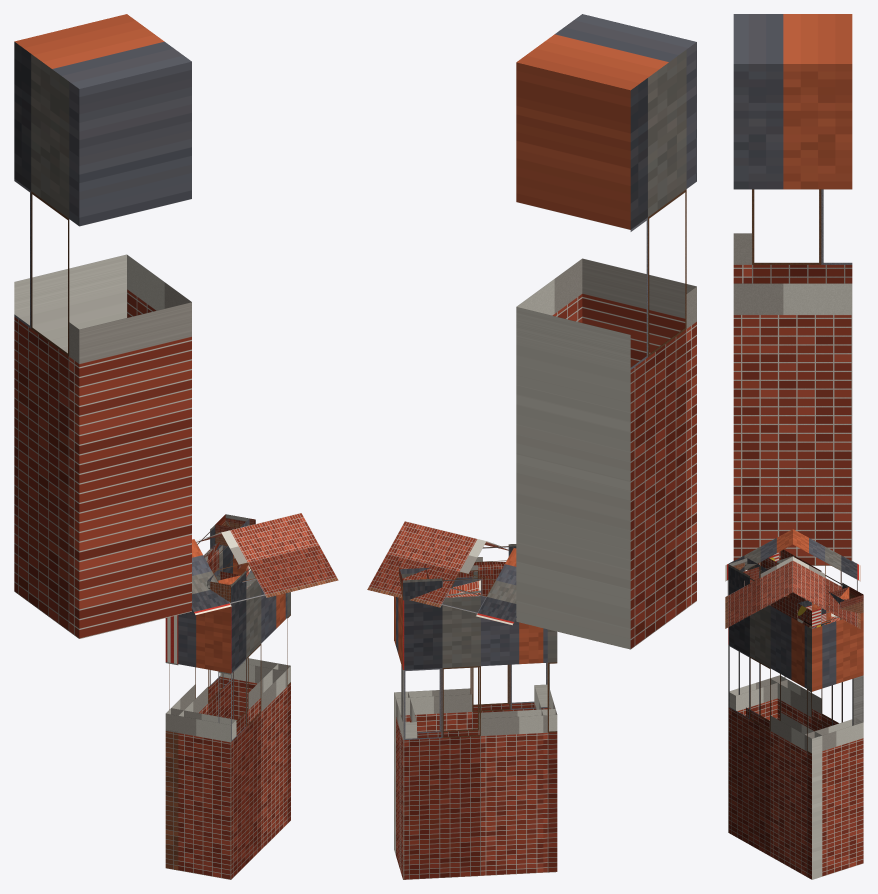
The picture shows the model from 3 angles, left to right: view 1: azimuth 30°, elevation 25°; view 2: azimuth 150°, elevation 25°; view 3: azimuth 270°, elevation 25°; orthographic projection. The views are drawn at different scales.
Parts seen in each view (by area): view 1: 535007075__chimney_0_xb, 535007075__wall_1_xb, 535007075__wall_0_xb, 535007075_roof_-1_xb, 535007075__wall_3_xb, 535007075__wall_2_xb; view 2: 535007075__chimney_0_xb, 535007075__wall_3_xb, 535007075_roof_1_xb, 535007075__wall_1_xb, 535007075__wall_0_xb, 535007075__wall_2_xb, 535007075__cornice_3; view 3: 535007075__chimney_0_xb, 535007075__wall_1_xb, 535007075__wall_2_xb, 535007075_roof_-1_xb, 535007075_roof_1_xb, 535007075__wall_3_xb, 535007075__cornice_1, 535007075__wall_0_xb, 535007075__cornice_2, 535007075__cornice_3, 535007075__wall_3_xf, 535007075__cornice_0.
Part boxes in pixels (x1,y1,x2,y2): 535007075__chimney_0_xb: [14, 14, 191, 638]; 535007075__wall_1_xb: [218, 570, 290, 879]; 535007075__wall_0_xb: [165, 606, 236, 879]; 535007075_roof_-1_xb: [191, 513, 338, 614]; 535007075__wall_3_xb: [165, 544, 232, 870]; 535007075__wall_2_xb: [220, 554, 290, 825]; 535007075__chimney_0_xb: [516, 14, 696, 649]; 535007075__wall_3_xb: [401, 590, 557, 879]; 535007075_roof_1_xb: [367, 521, 516, 625]; 535007075__wall_1_xb: [394, 571, 549, 855]; 535007075__wall_0_xb: [534, 628, 557, 872]; 535007075__wall_2_xb: [394, 597, 416, 878]; 535007075__cornice_3: [400, 564, 504, 600]; 535007075__chimney_0_xb: [733, 14, 852, 565]; 535007075__wall_1_xb: [728, 582, 822, 879]; 535007075__wall_2_xb: [804, 612, 863, 879]; 535007075_roof_-1_xb: [725, 529, 792, 628]; 535007075_roof_1_xb: [793, 529, 860, 628]; 535007075__wall_3_xb: [770, 594, 863, 731]; 535007075__cornice_1: [728, 558, 830, 628]; 535007075__wall_0_xb: [729, 675, 787, 720]; 535007075__cornice_2: [797, 586, 863, 628]; 535007075__cornice_3: [761, 549, 848, 604]; 535007075__wall_3_xf: [854, 677, 862, 724]; 535007075__cornice_0: [732, 552, 794, 583].
Bounding box in the file's own units: 0.3392 × 1.05 × 0.1752.
1 material, 1 textured.
